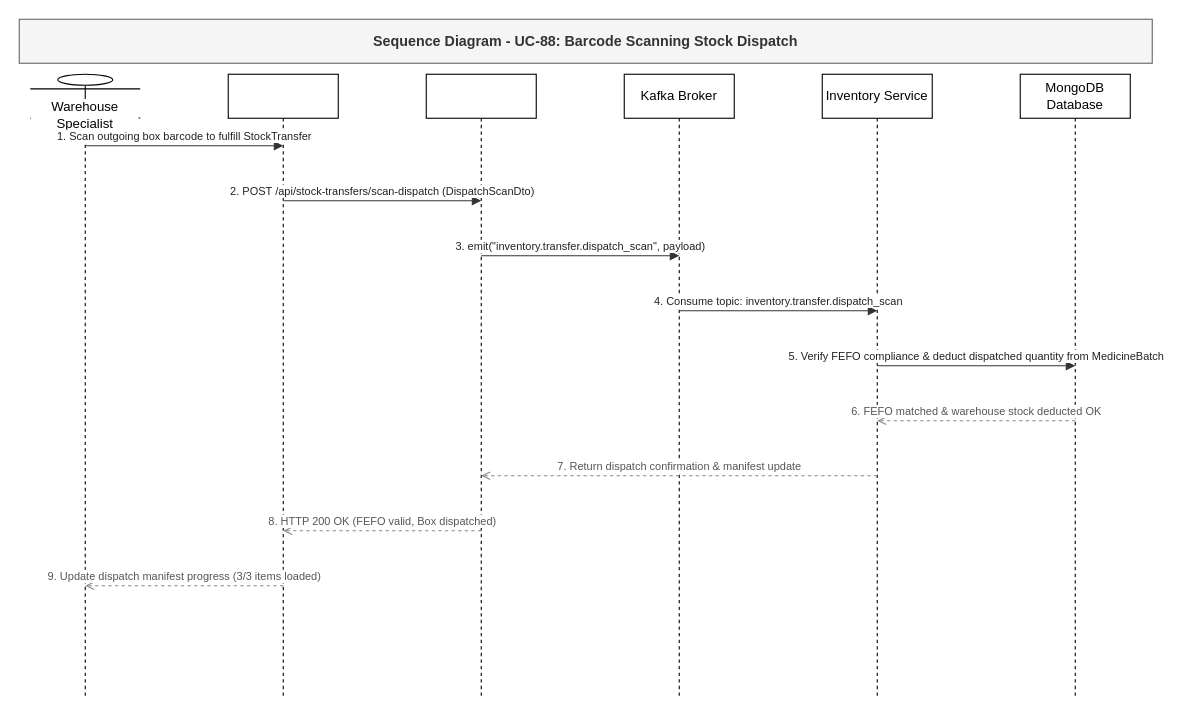
This 1183x715 diagram has some shape labels left out. The box of each missing label's shape, as (x1, y1, x2, y2) in pixels:
API Gateway: (425, 73, 536, 696)
Dispatch Scanner UI: (227, 73, 338, 696)
